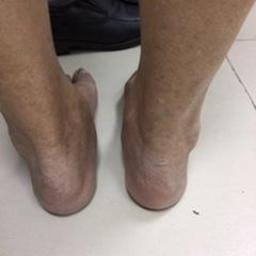Back View -Both Feet-: (3, 51, 217, 227)
